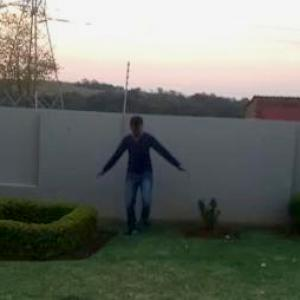land: (94, 116, 186, 244)
